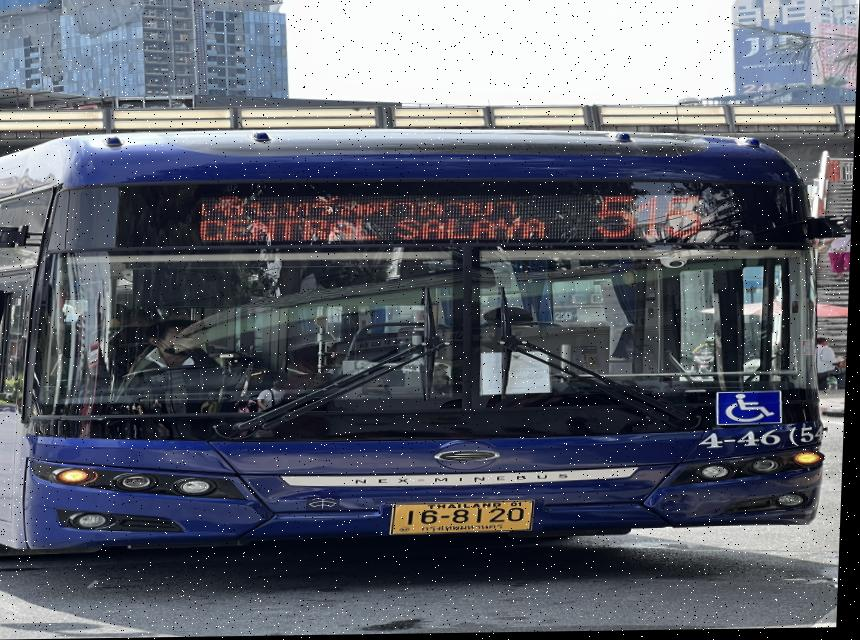Bus Line Number: (566, 185, 726, 245)
Bus Side Number: (697, 431, 835, 452)
Destination Sign: (184, 186, 557, 248)
TSB-Bus: (0, 132, 829, 560)
